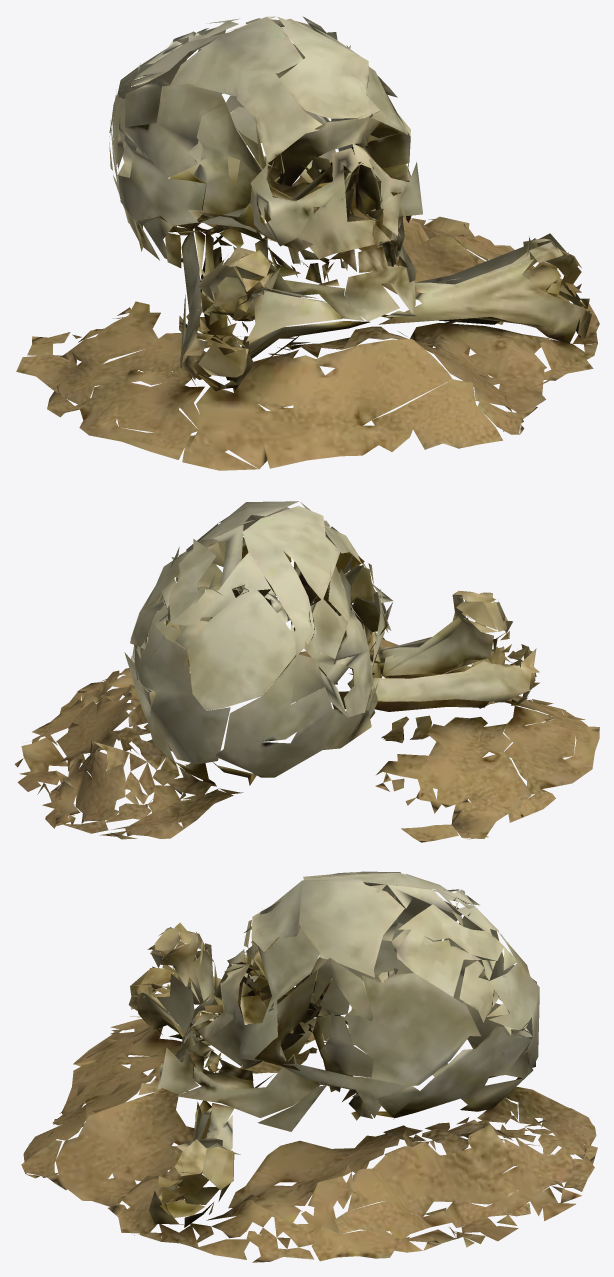
File: bone-pile.glb
The picture shows the model from 3 angles, top to bottom: view 1: azimuth 30°, elevation 25°; view 2: azimuth 150°, elevation 25°; view 3: azimuth 270°, elevation 25°; orthographic projection. The views are drawn at different scales.
Parts seen in each view (by area): view 1: bone-pile; view 2: bone-pile; view 3: bone-pile.
Part boxes in pixels (left/top/right/bottom): bone-pile: left=16, top=16, right=599, bottom=470; bone-pile: left=14, top=501, right=599, bottom=842; bone-pile: left=21, top=871, right=597, bottom=1262.
Bounding box in the file's own units: 0.9617 × 0.5223 × 0.9947.
Materials: 1 (1 with a texture image).
